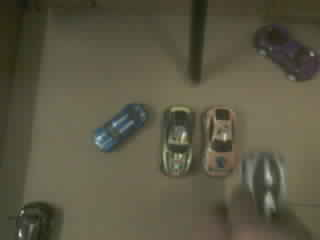Car: (255, 26, 319, 79), (200, 106, 239, 176), (241, 152, 282, 214), (95, 104, 147, 151), (160, 106, 193, 175), (19, 202, 52, 239)
